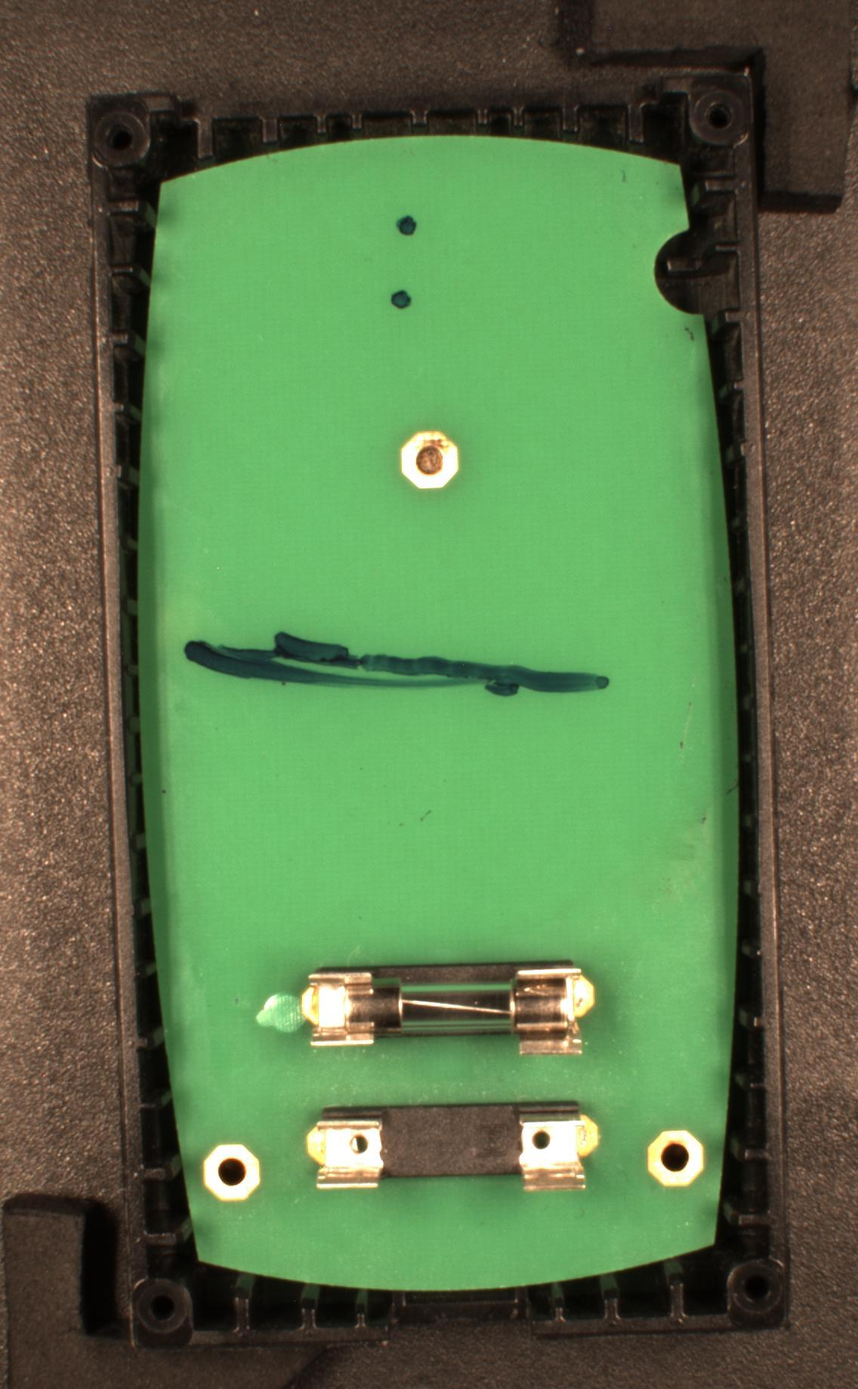Linijsko Ostecene: (182, 628, 612, 699)
Nepostojanje osiguraca: (305, 1097, 600, 1192)
Tockasto Ostecenje: (389, 288, 415, 311), (396, 215, 420, 238)
